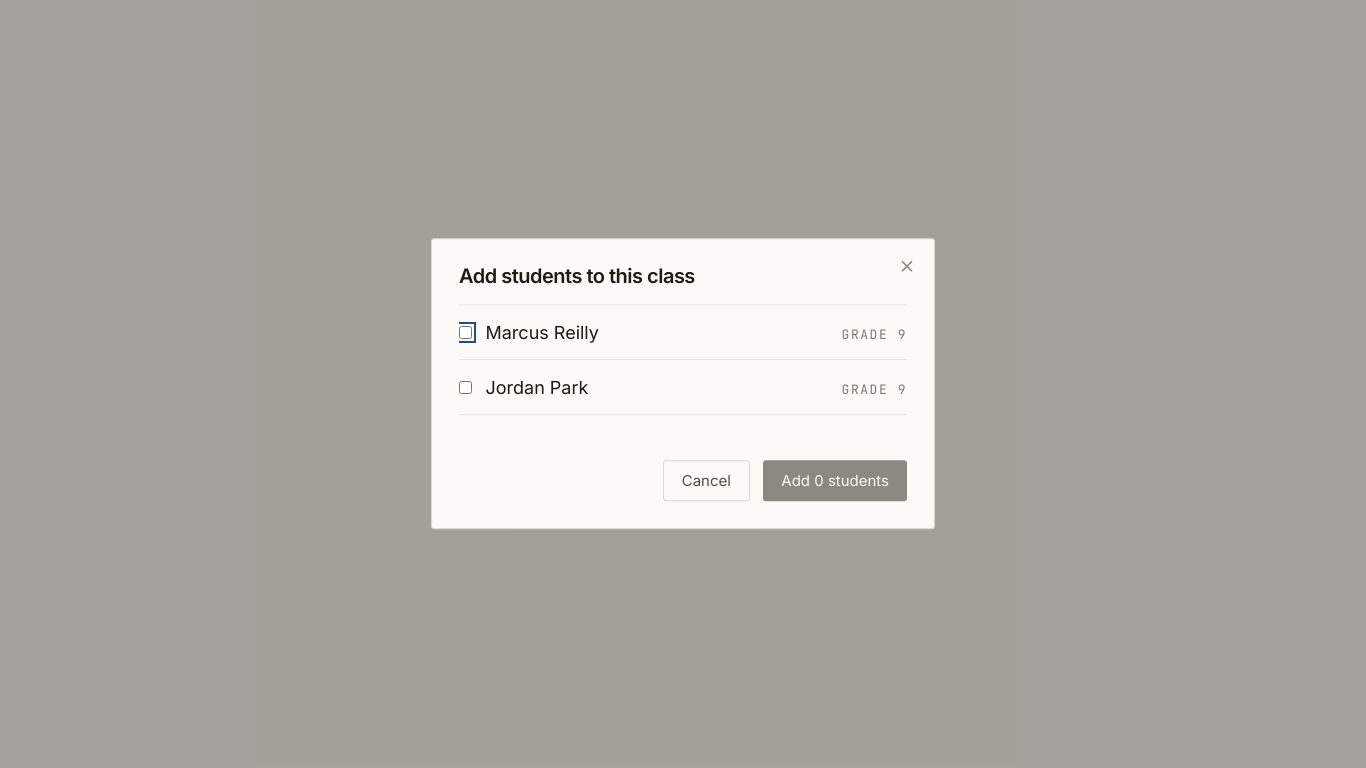
it: AddStudentsDialog › disables submit until at least one is selected
The width and height of the screenshot is (1366, 768).
Check: the button "Add 0 students" is disabled, box [763, 460, 907, 502]
What coordinates should you click on to do the following:
click the checkbox labelled "Marcus Reilly"
I would click on:
 (466, 332)
Its box is [459, 326, 472, 339].
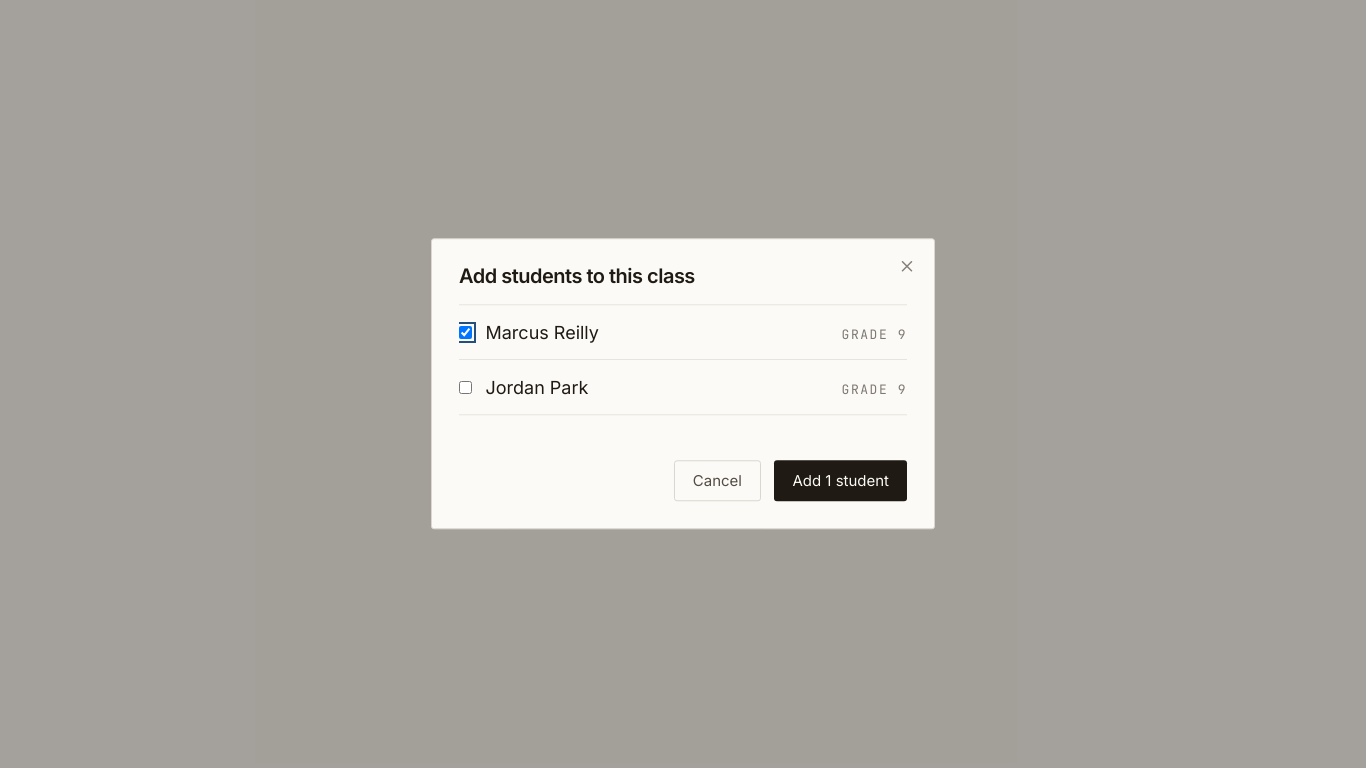
Check: the button "Add 1 student" is enabled, box [774, 460, 907, 502]
